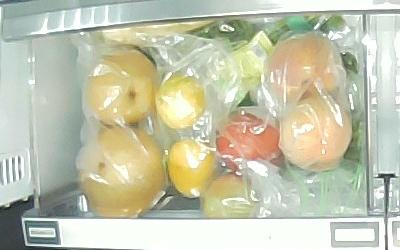peach_vinyl: (280, 96, 352, 171), (265, 35, 340, 105)
pear_vinyl: (78, 125, 166, 219), (84, 47, 160, 127)
tangerine_vinyl: (167, 137, 219, 200), (155, 75, 206, 129)
tomato_vinyl: (214, 111, 283, 179), (202, 174, 255, 219)
